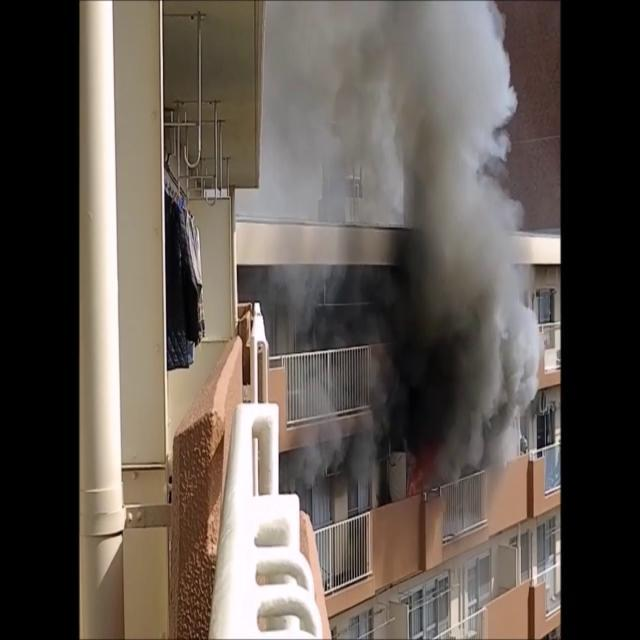Smoke: (262, 1, 542, 521)
